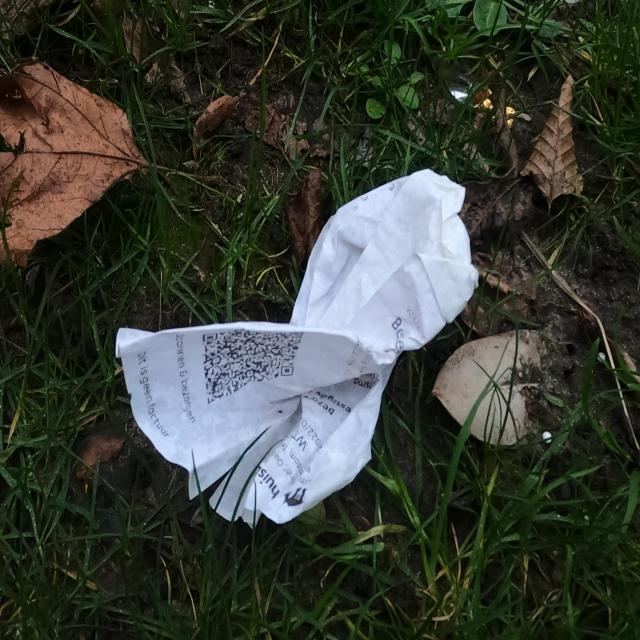Paper: (110, 164, 482, 534)
